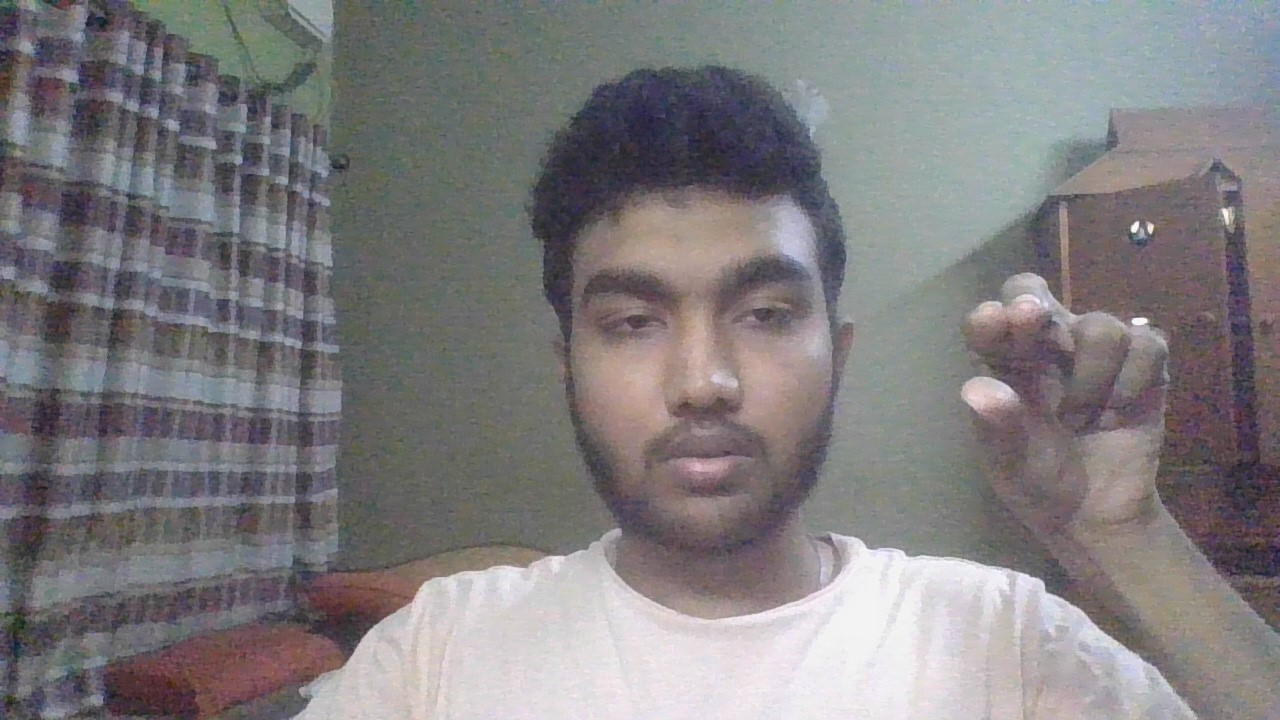No: (939, 252, 1191, 554)
